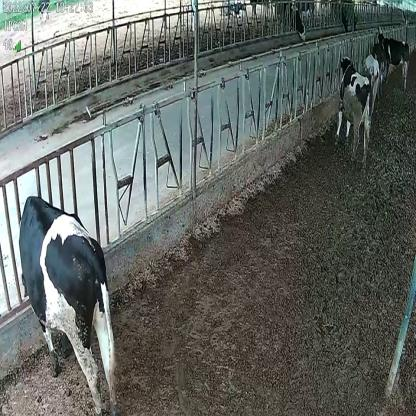cow: (18, 191, 119, 416), (336, 53, 374, 166)
